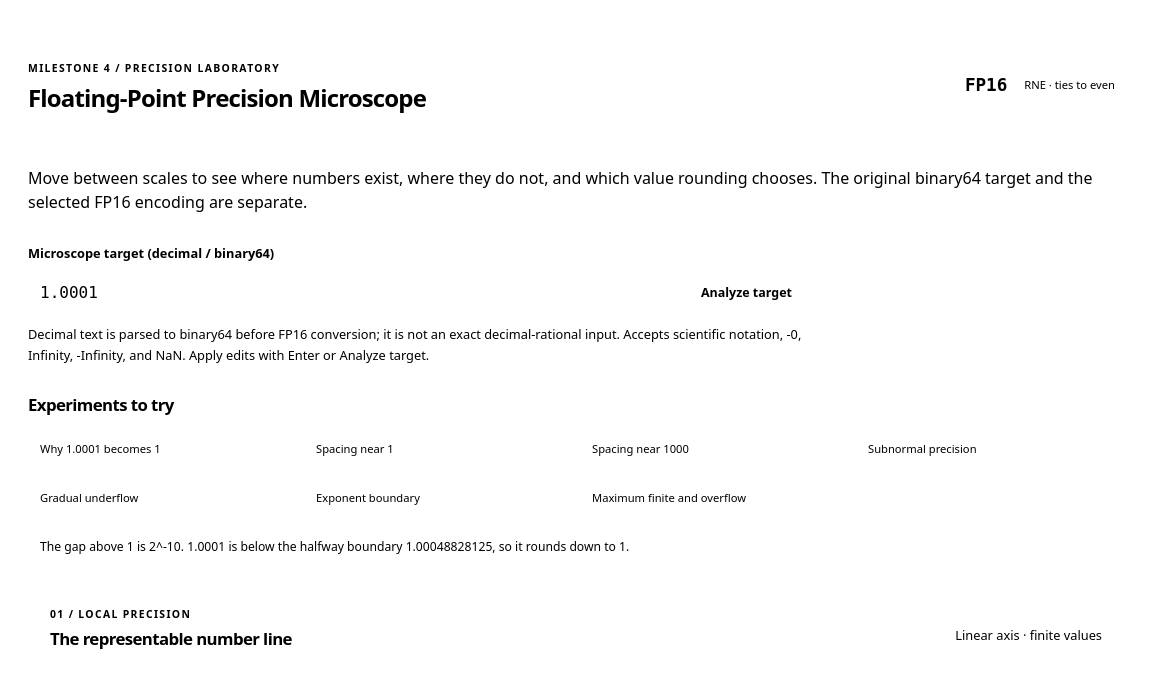
Scenario: Precision Microscope integration › runs the Spacing near 1000 educational preset
This screenshot has width=1152, height=681.
What coordinates should you click on to do the following:
click the button "Spacing near 1000"
I would click on:
 (640, 449)
Its box is [580, 429, 848, 470].
(page scrolled)
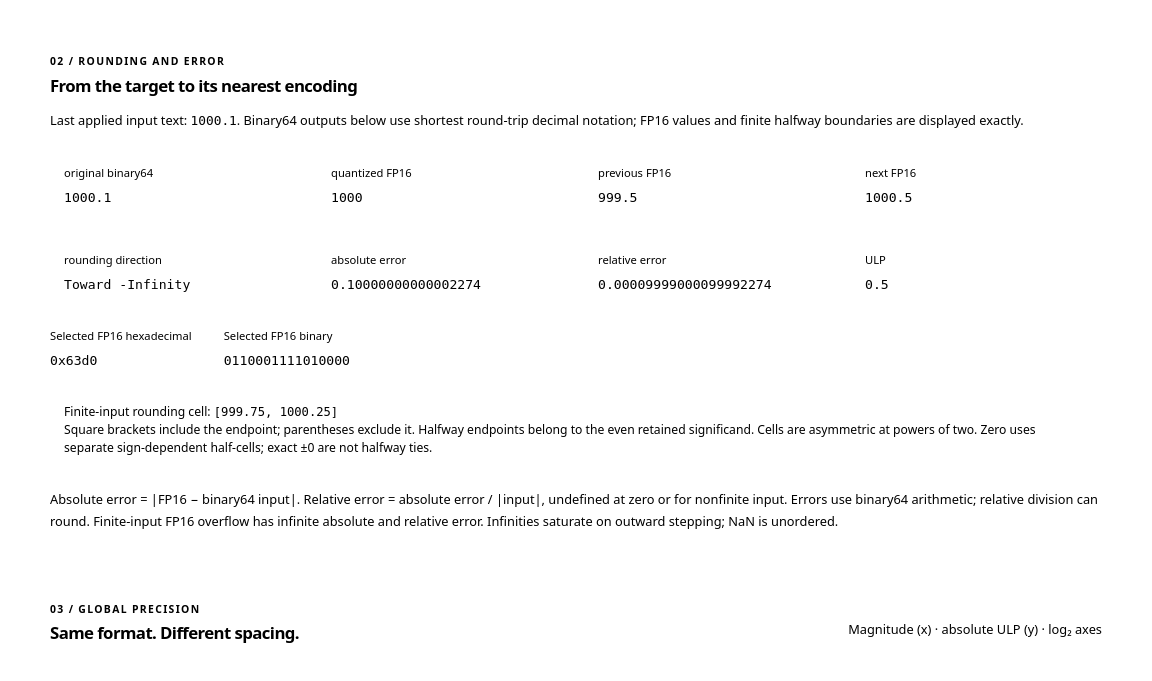
Expected: the text named "Microscope quantized FP16" reads "1000", [331, 190, 363, 205]
Expected: the text named "Microscope selected hex" reads "0x63d0", [50, 353, 97, 368]
